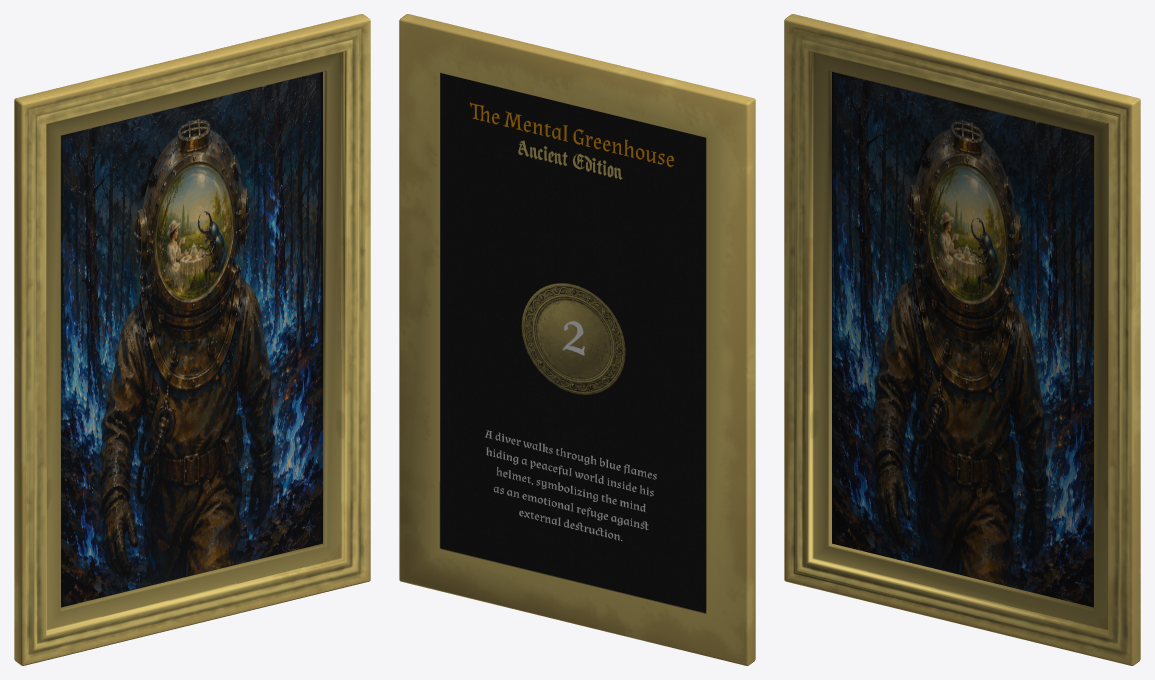
Rendered from nft2.glb.
The picture shows the model from 3 angles, left to right: view 1: azimuth 30°, elevation 25°; view 2: azimuth 150°, elevation 25°; view 3: azimuth 330°, elevation 25°; orthographic projection.
Visible parts, largest first — view 1: LIENZO, MARCO; view 2: MARCO; view 3: LIENZO, MARCO.
Part boxes in pixels (box(x1,y1,x2,y2)): LIENZO: box(61, 72, 322, 607); MARCO: box(14, 14, 370, 665); MARCO: box(399, 14, 755, 665); LIENZO: box(832, 72, 1093, 607); MARCO: box(784, 14, 1140, 665).
Size of the model in its own units: 0.4615 by 0.7104 by 0.0195.
2 materials, 2 textured.
